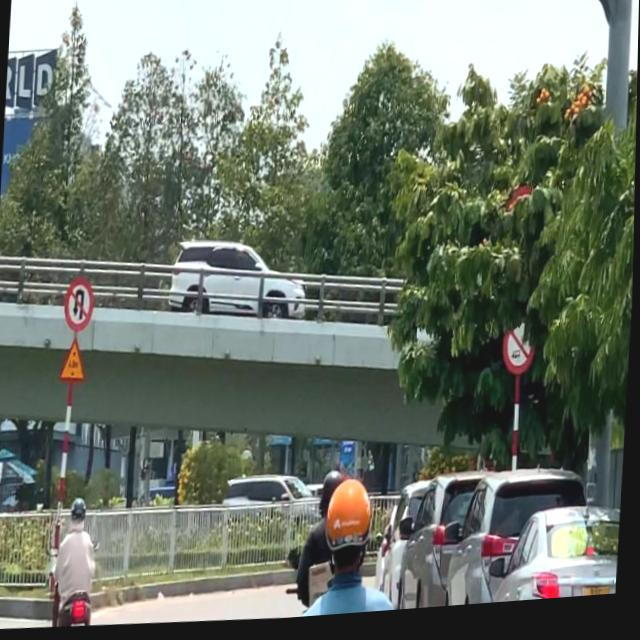Cam quay dau xe: (62, 279, 97, 334)
Chieu cao an toan: (58, 334, 91, 387)
